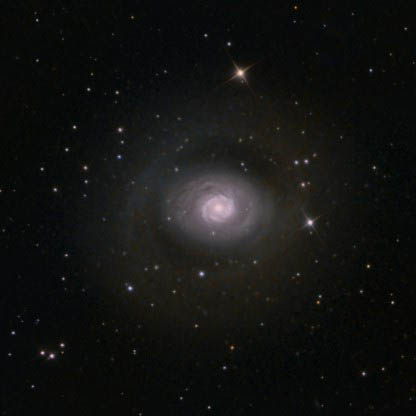Messier 94: (85, 68, 371, 352)
